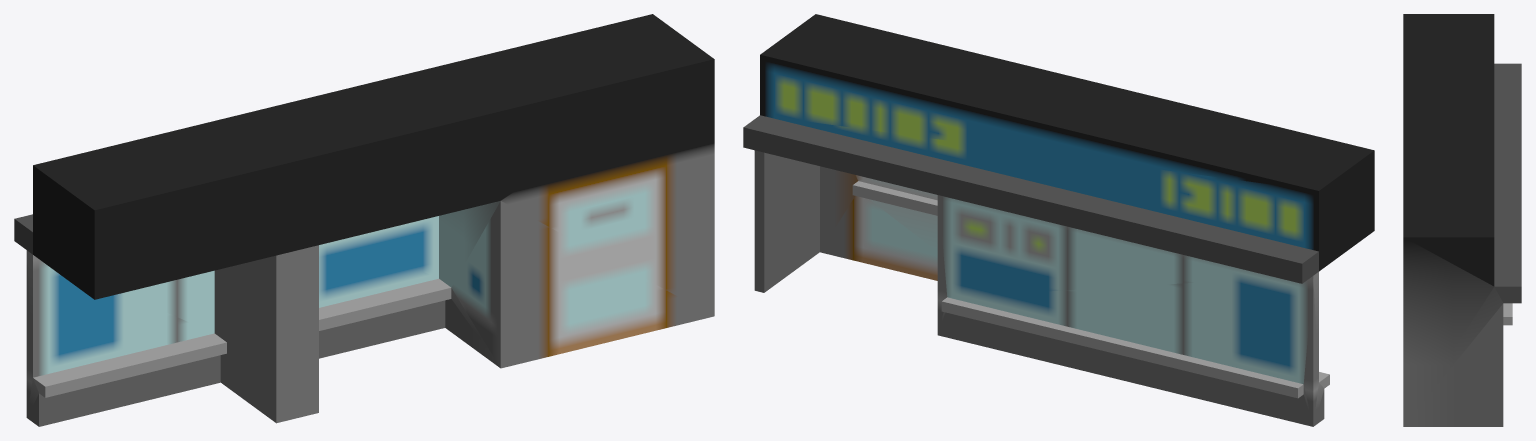
Rendered from obj_store2b.dae.
3 renders of one model, left to right at view 1: azimuth 30°, elevation 25°; view 2: azimuth 150°, elevation 25°; view 3: azimuth 270°, elevation 25°, orthographic. The views are drawn at different scales.
Visible parts, largest first — view 1: obj_store2b; view 2: obj_store2b; view 3: obj_store2b.
Part boxes in pixels (x1,y1,x2,y2): obj_store2b: [14, 14, 714, 426]; obj_store2b: [743, 14, 1374, 426]; obj_store2b: [1403, 14, 1521, 426].
Bounding box in the file's own units: 5.8 × 1.3 × 2.3.
Materials: 1 (1 with a texture image).
